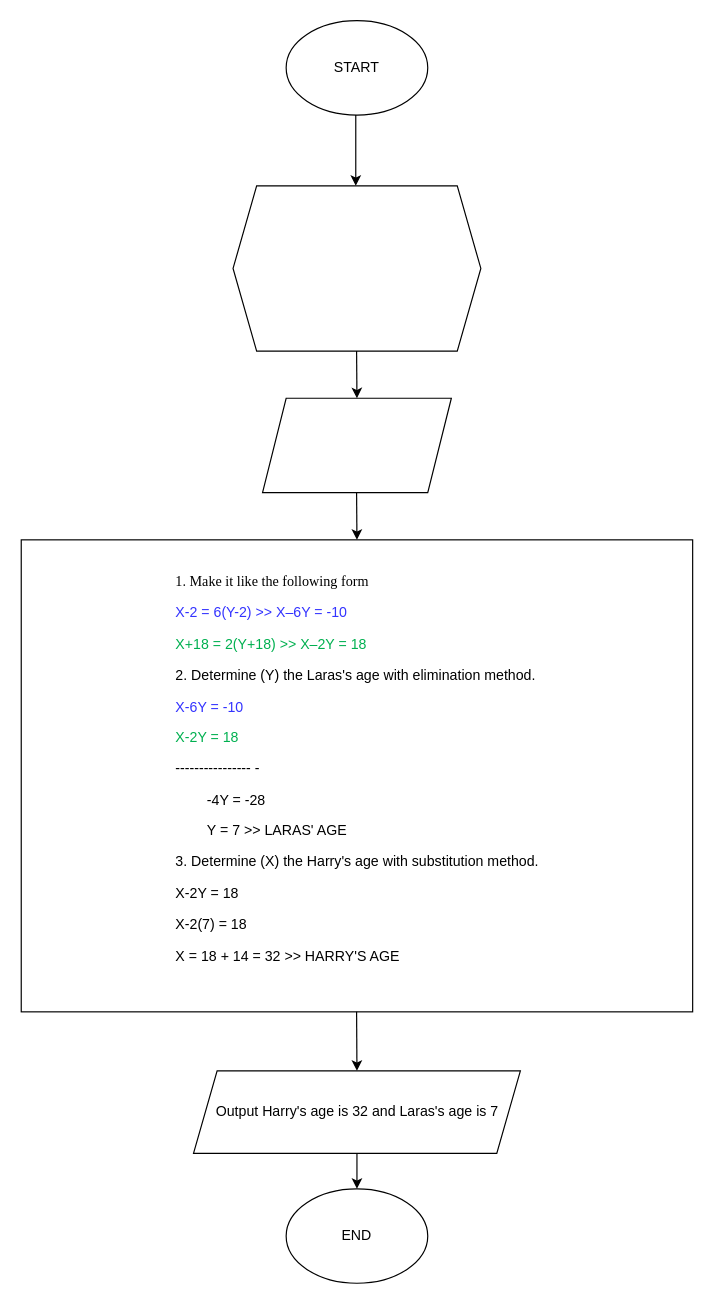
The diagram is 713 pixels wide and 1304 high, and some of its shapes have lost their labels. Here are the shapes that lost their labels. From the top down, the centre of each, then its label:
At pixel 356 268: "Harry's age as X, Laras's age as Y int X; int Y;".
At pixel 356 445: "input X, Y".
